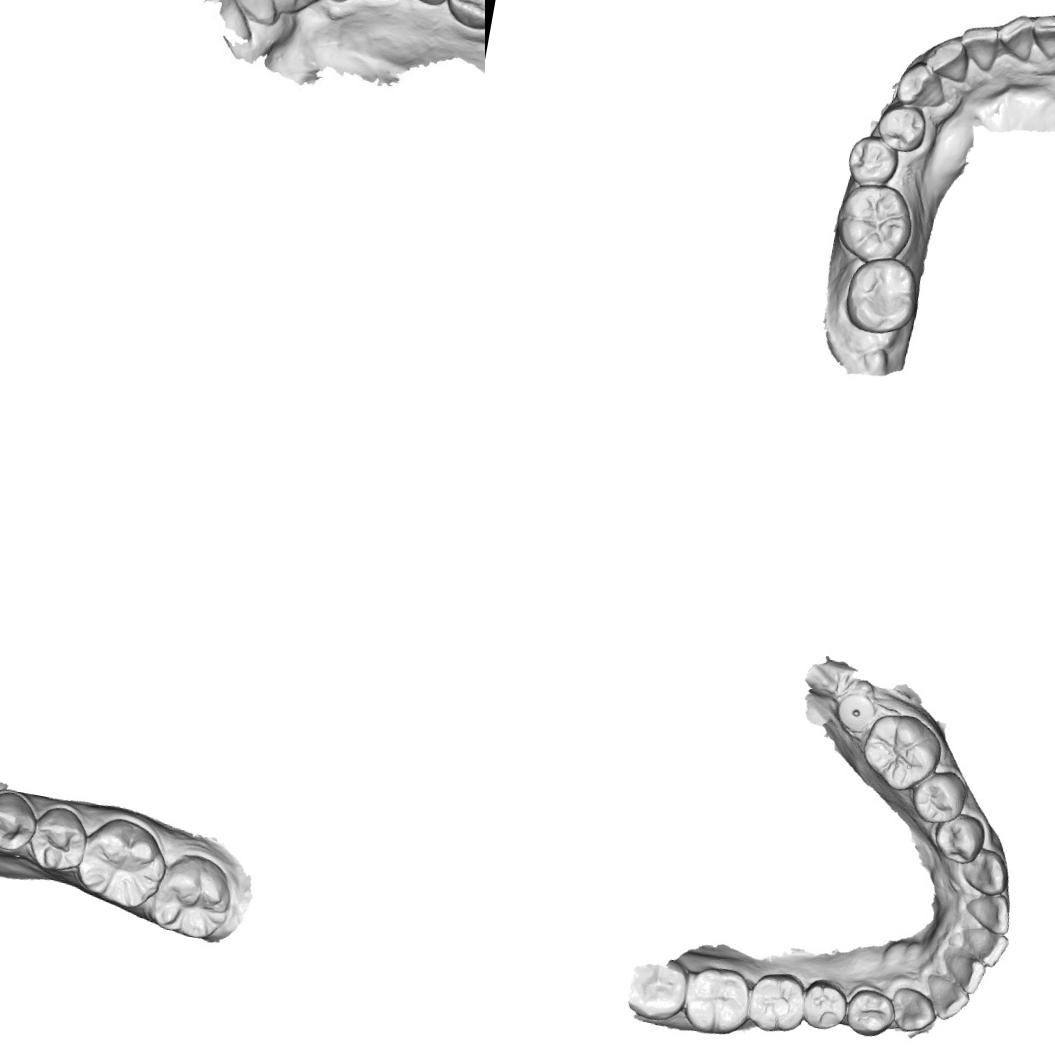canine: (892, 57, 951, 112), (886, 982, 942, 1036), (958, 845, 1012, 899)
implant: (832, 688, 878, 734)
incisor: (918, 971, 974, 1025), (958, 886, 1015, 937), (921, 32, 974, 84), (954, 20, 1002, 75), (991, 10, 1039, 64), (955, 924, 1010, 970), (936, 950, 988, 997), (1027, 10, 1055, 64), (222, 0, 282, 18)
molar: (71, 810, 173, 913), (142, 846, 238, 943), (830, 176, 920, 269), (856, 707, 948, 797), (838, 251, 922, 340), (680, 962, 754, 1039), (624, 952, 694, 1026), (743, 966, 810, 1038), (440, 0, 485, 33)
premolar: (25, 801, 92, 876), (905, 764, 970, 830), (841, 130, 902, 190), (928, 808, 988, 868), (872, 98, 930, 156), (842, 985, 898, 1040), (0, 783, 41, 856), (798, 976, 849, 1034)
